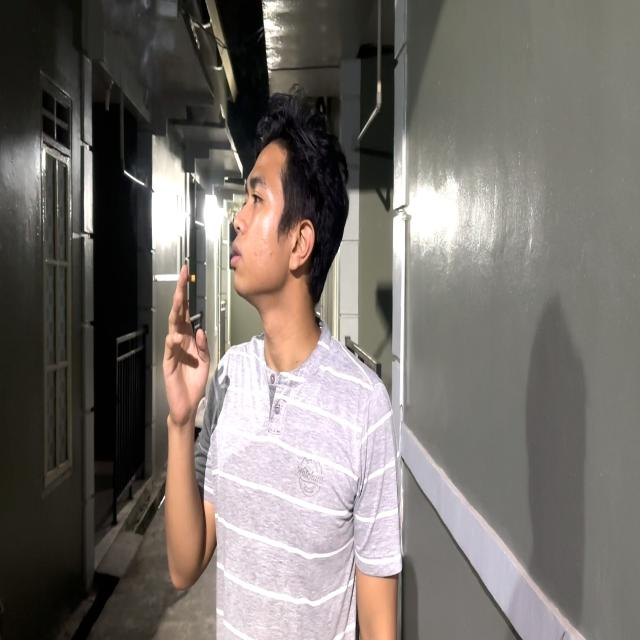cigarette: (152, 274, 196, 282)
smoking: (153, 79, 352, 591)
